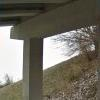Bridge: (3, 2, 68, 93)
